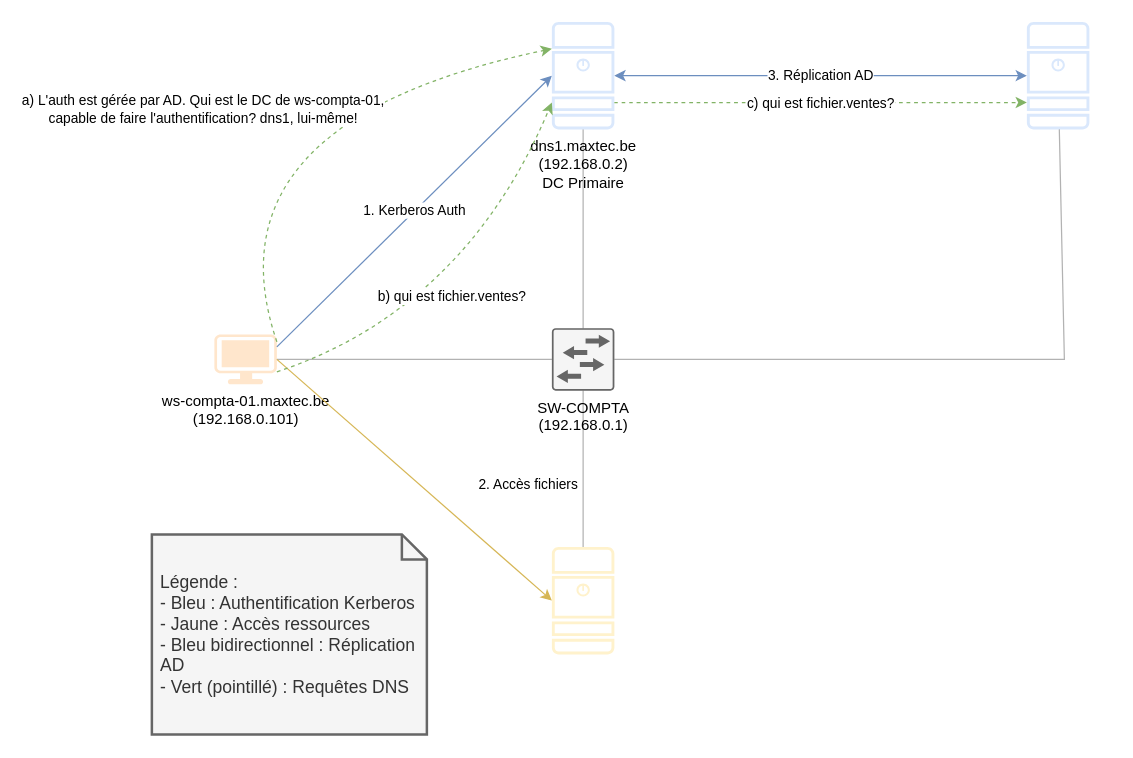
Some shapes in this 1133 by 758 pixel diagram are drawn without their labels. The box of each missing label's shape, as (x1, y1, x2, y2) in pixels:
dns2.maxtec.be (192.168.0.3) DC Secondaire: (1026, 21, 1089, 129)
fileserver.us.maxtec.be.maxtec.be (192.168.0.20): (551, 546, 614, 654)
